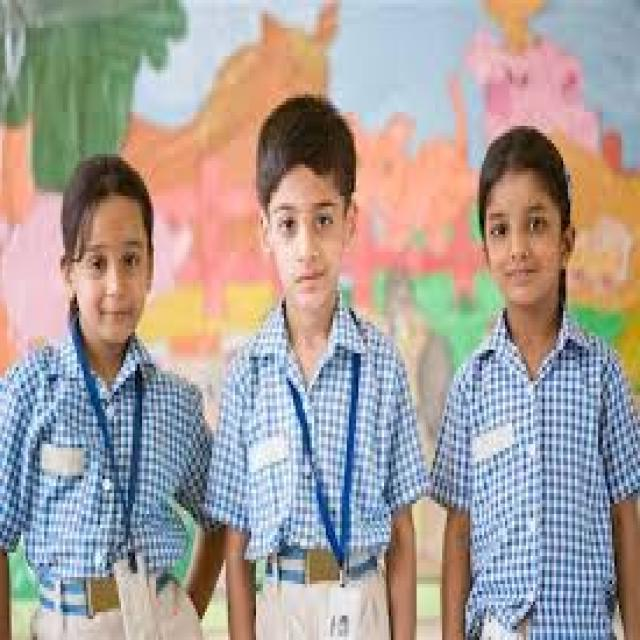id_card: (80, 343, 159, 640), (300, 329, 369, 640)
